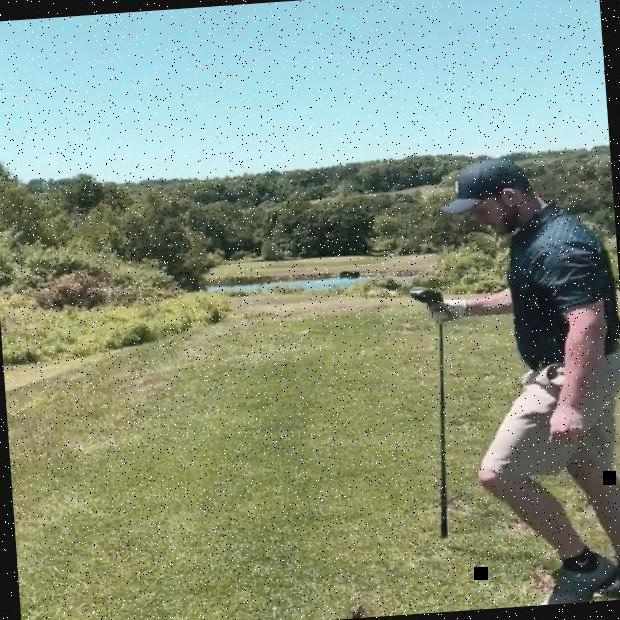ClubHead: (408, 284, 444, 307)
